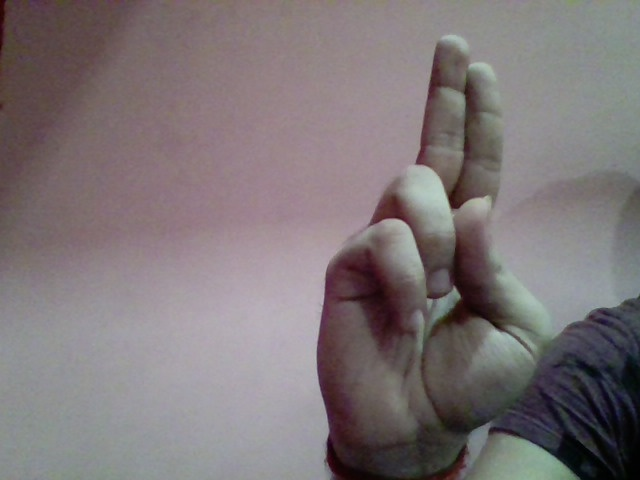u: (308, 26, 558, 450)
